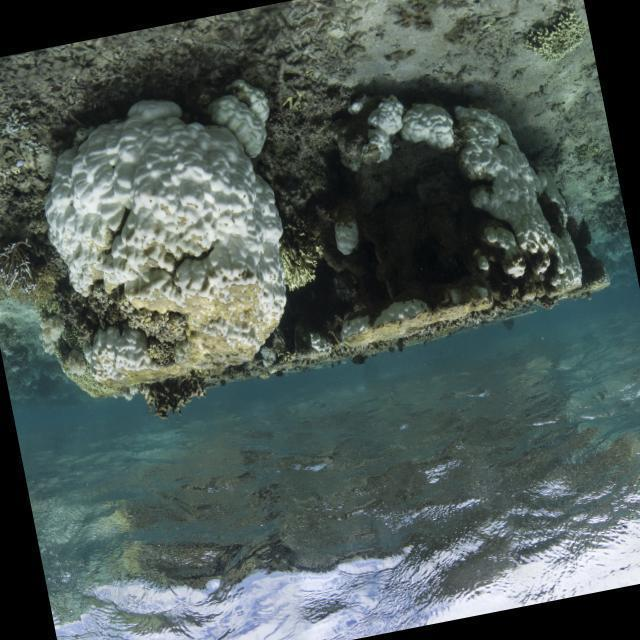Dead Coral: (251, 0, 382, 121)
